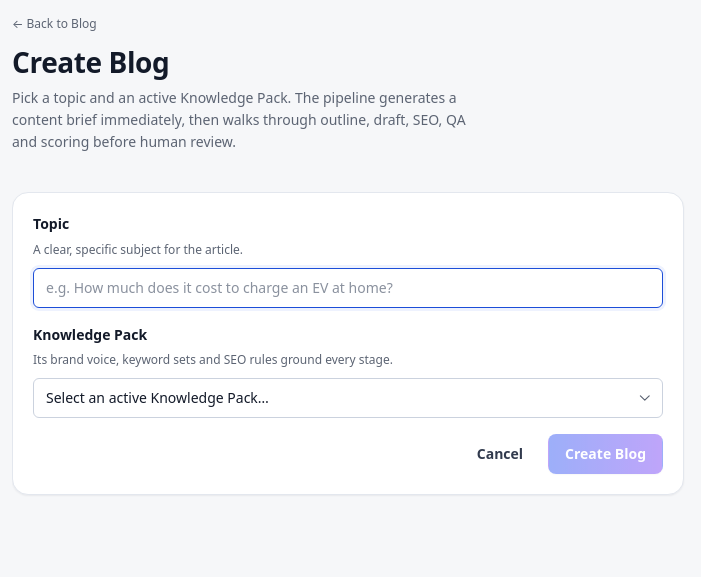
Test: CreateBlogForm › surfaces a backend business error without navigating
The width and height of the screenshot is (701, 577).
Type "x" into the field labelled "Topic" at [348, 288], box 33,268 -> 663,308
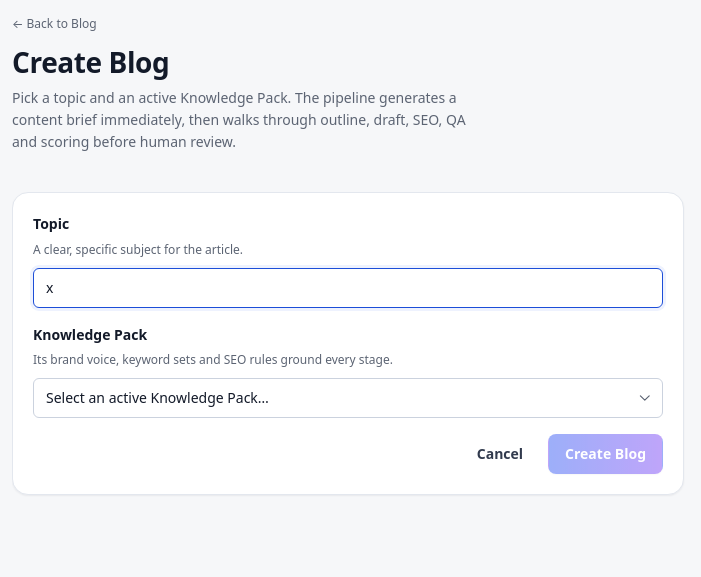
Select "EV Pack (v2)" in the dropdown labelled "Knowledge Pack" at [348, 398], box 33,378 -> 663,418
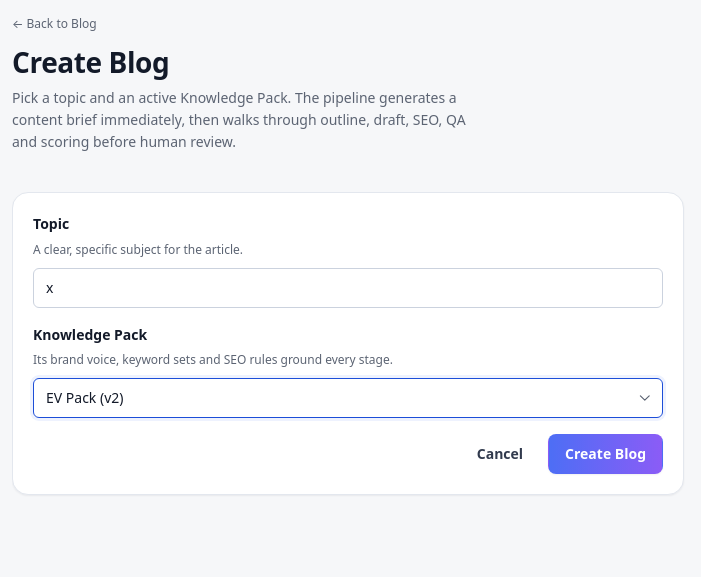
Click the button "Create Blog" at [606, 454], box 548,434 -> 663,474
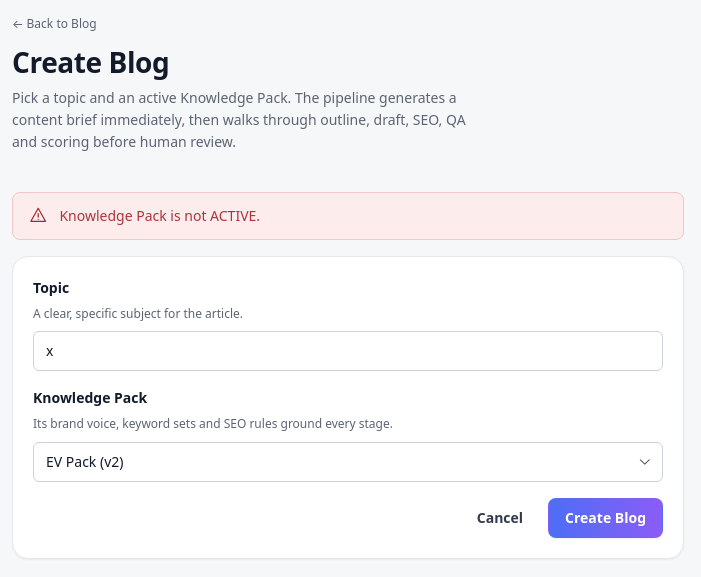
Expected: the text "Knowledge Pack is not ACTIVE." is shown, 59,206 -> 260,225
